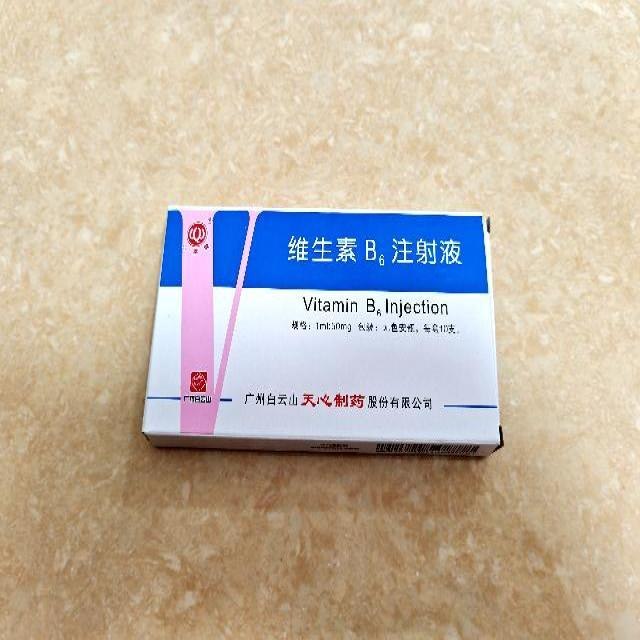box: (140, 205, 502, 456)
